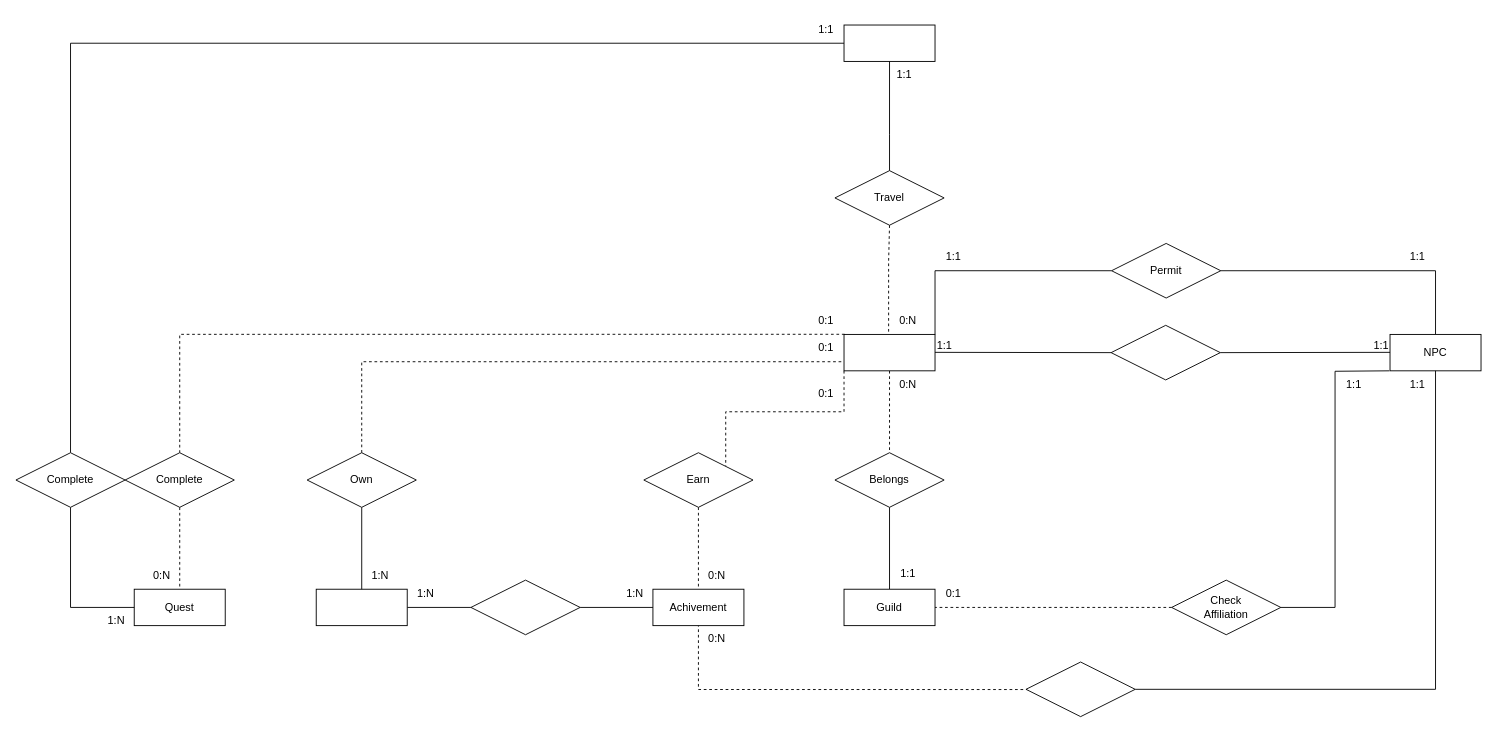
This 1497x733 diagram has some shape labels left out. Each missing label, with the centre of its shape:
"Checks Achived" goes at point 1080,689.
"Dimension" goes at point 889,42.
"Legal Item" goes at point 525,607.
"Pay" goes at point 1165,352.
"Player" goes at point 889,352.
"Player_item" goes at point 361,607.
